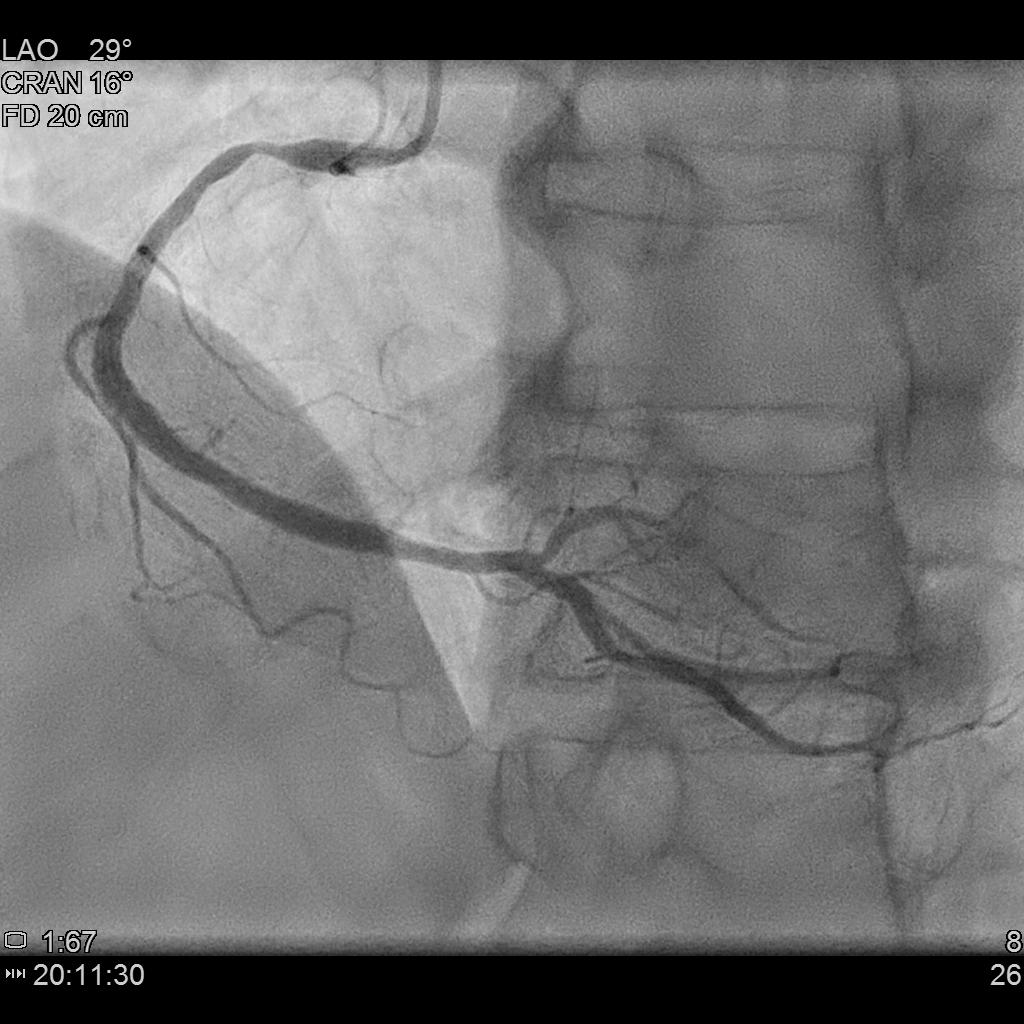block: (214, 96, 313, 203)
